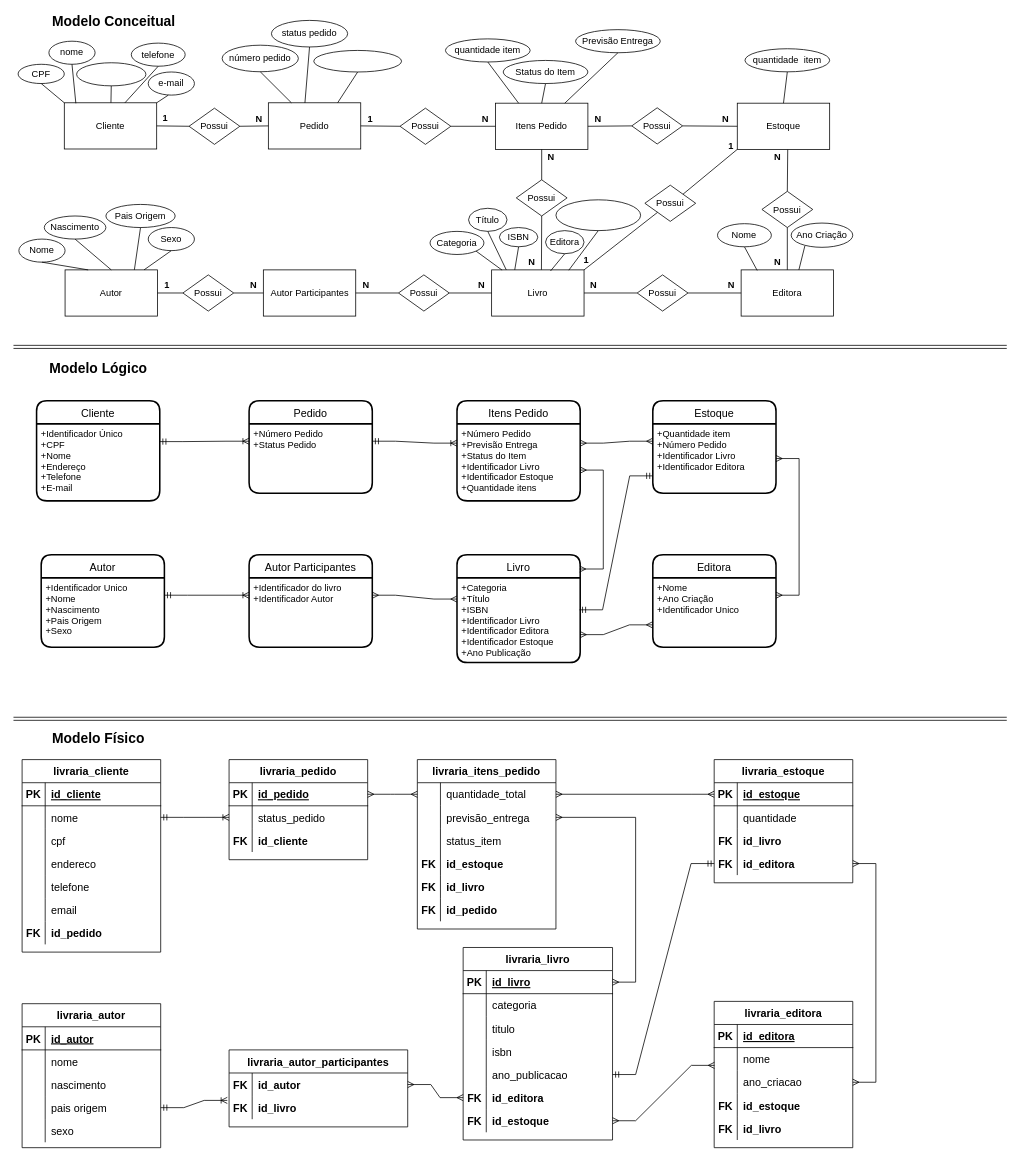
The diagram is 1020 pixels wide and 1161 high, and some of its shapes have lost their labels. Each missing label, with the centre of its shape:
"Ano de Publicação" belongs at point (598, 215).
"endereço" belongs at point (111, 74).
"quantidade itens" belongs at point (357, 61).
